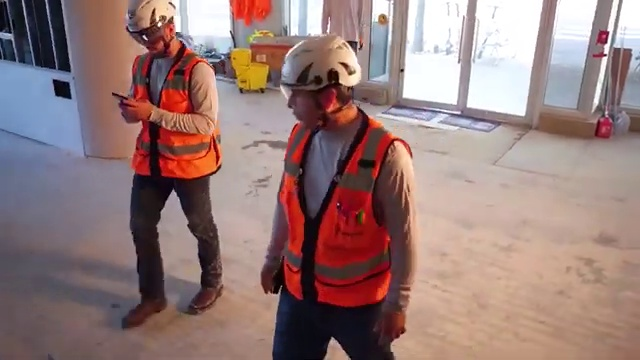helmet: (284, 36, 362, 96), (124, 1, 181, 34)
jacket: (284, 118, 408, 312), (129, 52, 230, 181)
